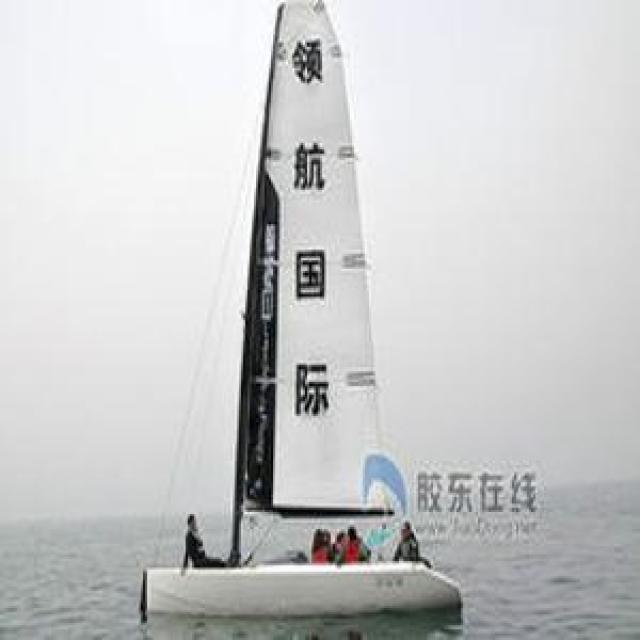sailboat: (139, 0, 483, 623)
